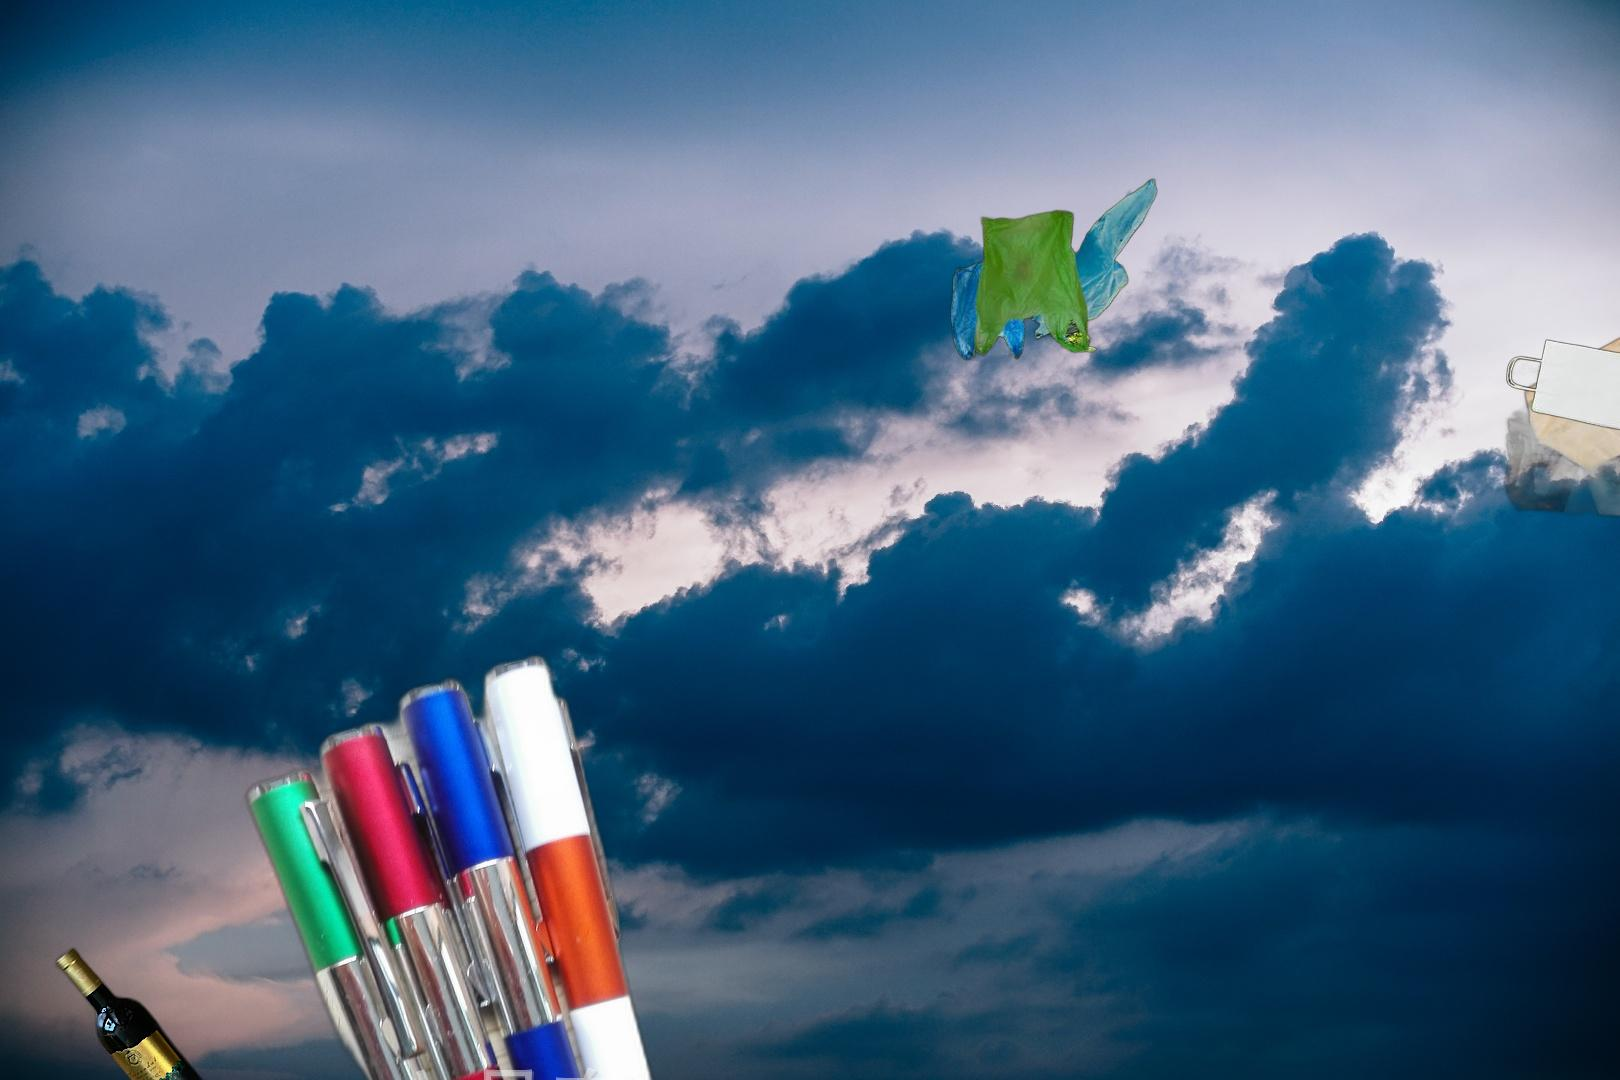glass: (52, 943, 237, 1080)
paper-bag: (1495, 327, 1620, 542), (1503, 297, 1620, 511)
penholder: (237, 647, 739, 1080)
plastic-bag: (949, 176, 1160, 363)
